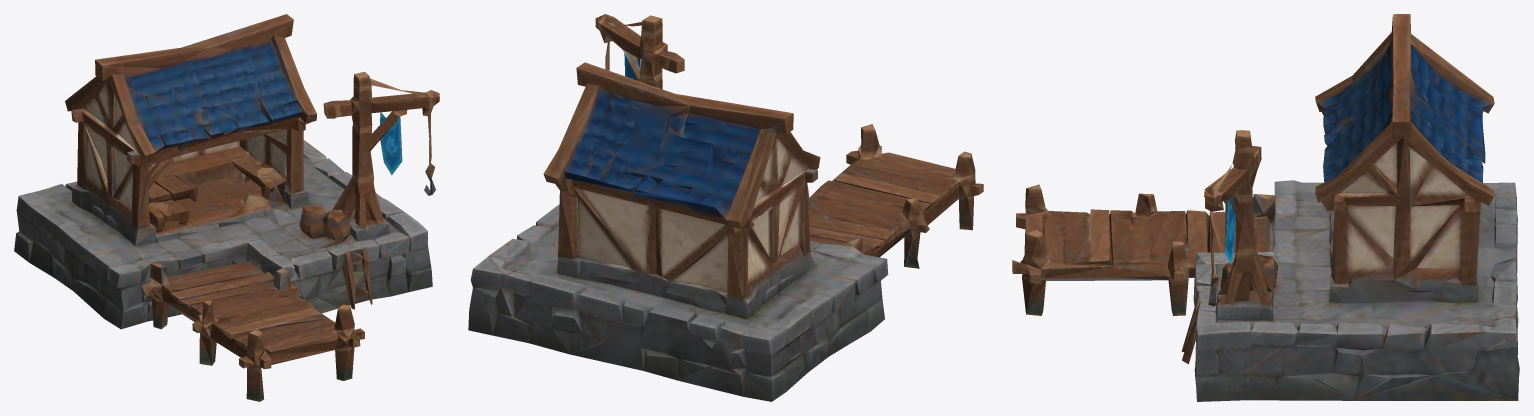
The model's file is dock2.glb.
3 renders of one model, left to right at view 1: azimuth 30°, elevation 25°; view 2: azimuth 150°, elevation 25°; view 3: azimuth 270°, elevation 25°, orthographic. The views are drawn at different scales.
Bounding box in the file's own units: 1.46 × 1.04 × 1.9.
1 material, 1 textured.
